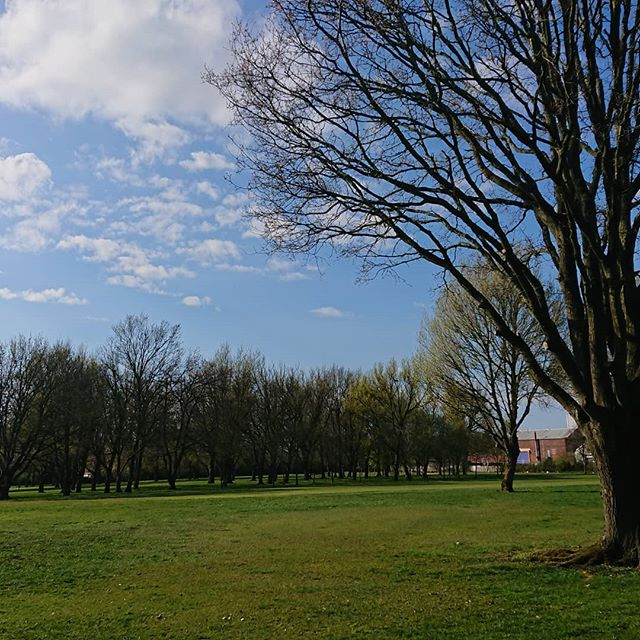grass: (9, 485, 640, 640)
sky: (1, 14, 409, 361)
tree: (245, 4, 640, 547), (435, 257, 560, 501)
vegetation: (1, 349, 492, 476)
